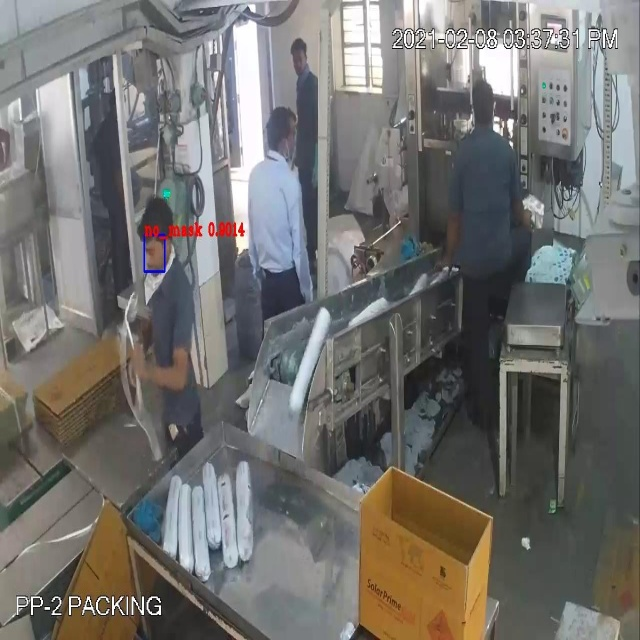Sin_guantes: (130, 337, 193, 397)
